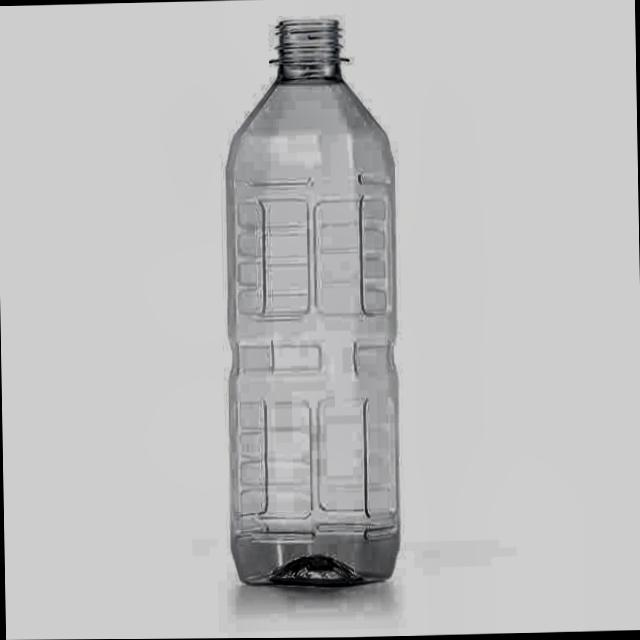Bottles: (205, 6, 429, 600)
